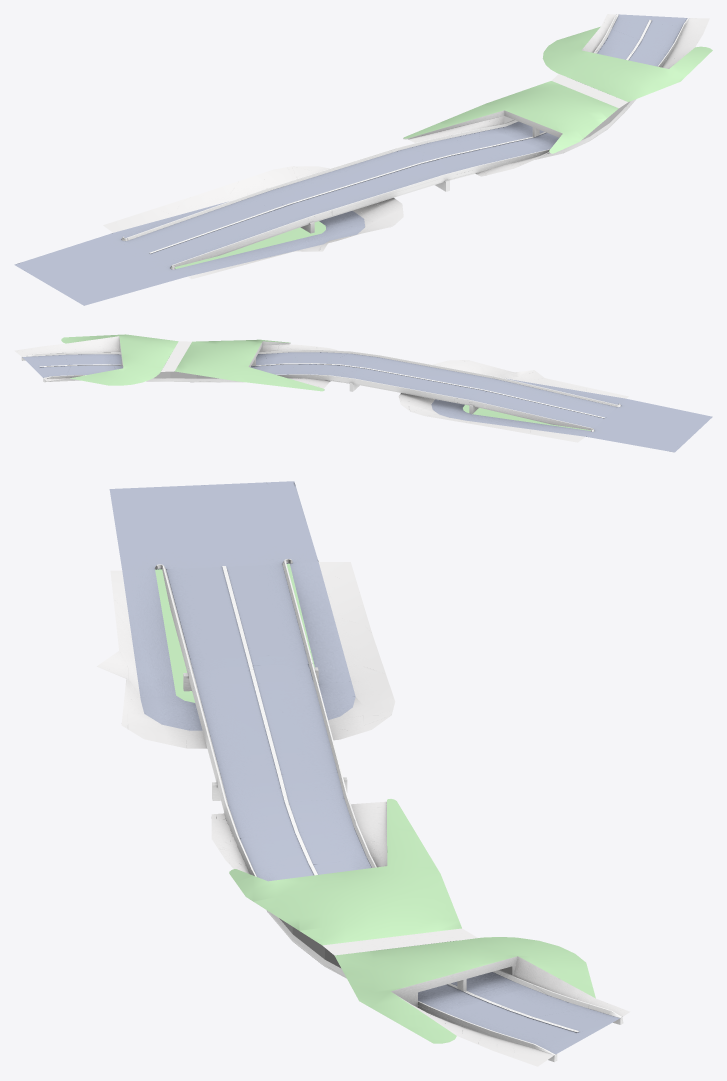
File: Al-VOAD.glb
3 views of the same model, one above another, from view 1: azimuth 30°, elevation 25°; view 2: azimuth 150°, elevation 25°; view 3: azimuth 270°, elevation 25° (orthographic). The views are drawn at different scales.
Parts seen in each view (by area): view 1: group_18, group_22, group_17, group_2; view 2: group_18, group_22, group_2, group_17; view 3: group_18, group_22, group_17, group_2.
Part boxes in pixels (x1,y1,x2,y2): group_18: (14,14,687,305); group_22: (175,26,712,268); group_17: (103,14,709,279); group_2: (121,14,688,269); group_18: (22,352,712,452); group_22: (61,334,590,430); group_2: (21,338,620,431); group_17: (14,336,628,442); group_18: (109,481,620,1054); group_22: (155,563,595,1043); group_17: (97,562,630,1066); group_2: (155,559,623,1061).
Size of the model in its own units: 367 by 12 by 141.
Materials: 5 (3 with a texture image).
